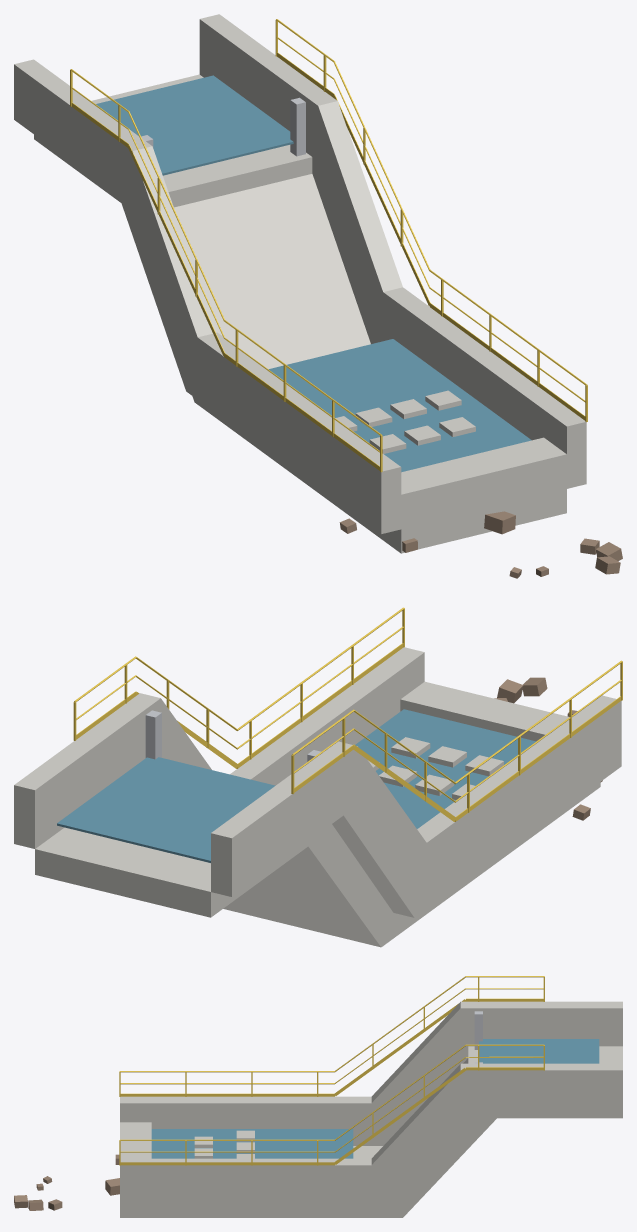
Rendered from ore-processing-and-haulage-plant-spillway-chute-41afc6f4.glb.
3 renders of one model, top to bottom at view 1: azimuth 30°, elevation 25°; view 2: azimuth 150°, elevation 25°; view 3: azimuth 270°, elevation 25°, orthographic. The views are drawn at different scales.
Parts seen in each view (by area): view 1: spillway-chute; view 2: spillway-chute; view 3: spillway-chute.
Boxes of the visible parts, bbox=[...] form: spillway-chute: bbox=[14, 14, 622, 578]; spillway-chute: bbox=[14, 607, 622, 947]; spillway-chute: bbox=[14, 976, 622, 1217].
Bounding box in the file's own units: 6.32 × 7.57 × 23.25.
